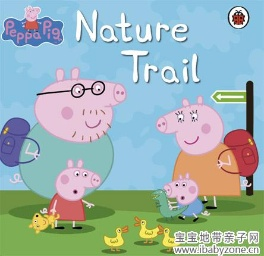Peppa: (45, 160, 101, 232)
